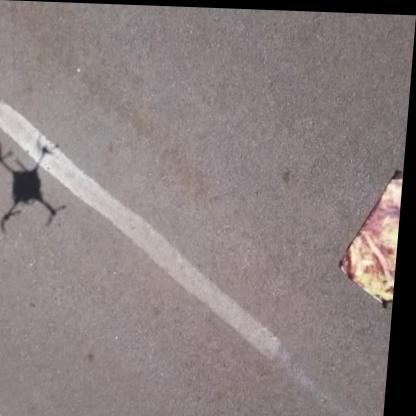fire-poster: (340, 165, 406, 310)
